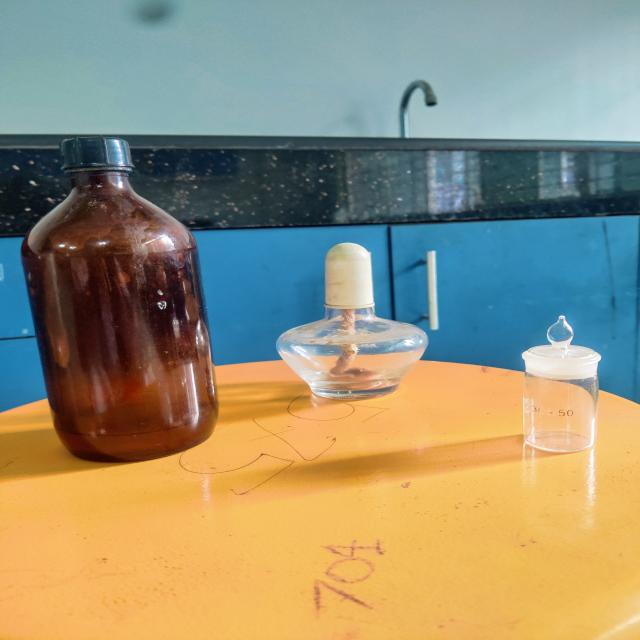Nessler_Reagent_Bottle: (0, 123, 234, 481)
Spirit_Lamp: (259, 223, 442, 414)
Weighing_Bottle: (489, 295, 623, 472)
